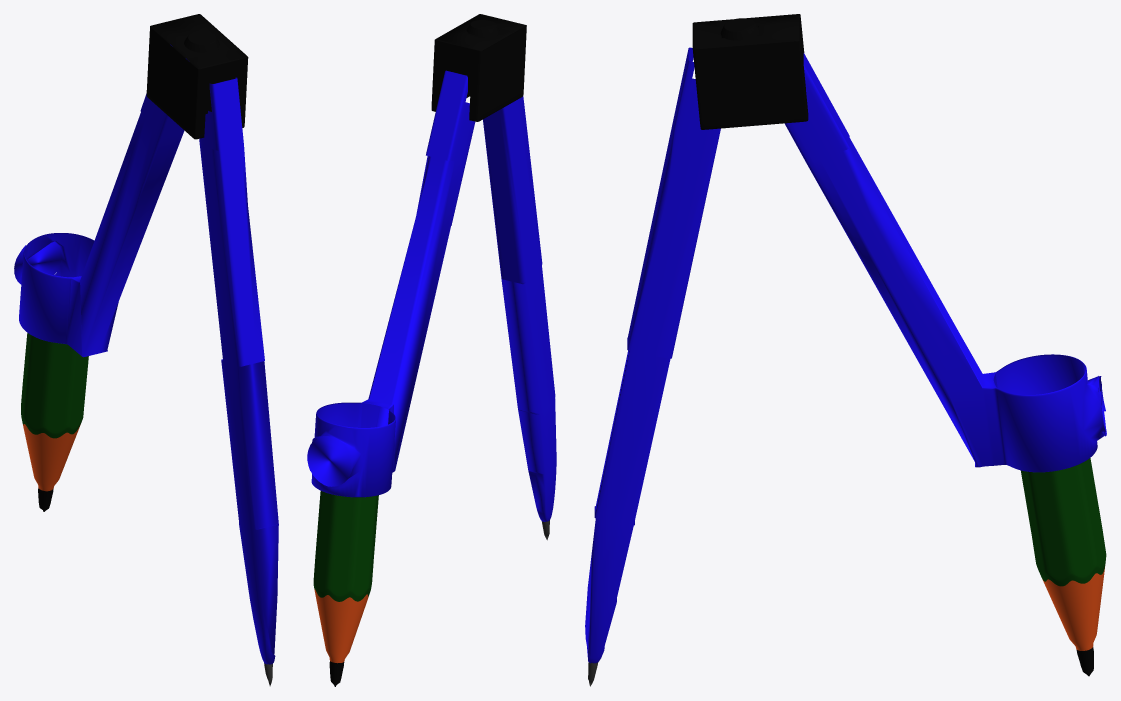
File: compass_Base.FBX
The picture shows the model from 3 angles, left to right: view 1: azimuth 30°, elevation 25°; view 2: azimuth 150°, elevation 25°; view 3: azimuth 270°, elevation 25°; orthographic projection. The views are drawn at different scales.
Visible parts, largest first — view 1: 16739_compass_for_drawing_circles_v1; view 2: 16739_compass_for_drawing_circles_v1; view 3: 16739_compass_for_drawing_circles_v1.
Boxes of the visible parts, x1,y1,x2,y2 form: 16739_compass_for_drawing_circles_v1: [14, 14, 278, 686]; 16739_compass_for_drawing_circles_v1: [307, 14, 556, 686]; 16739_compass_for_drawing_circles_v1: [585, 14, 1106, 686].
Bounding box in the file's own units: 3.5 × 27.16 × 19.36.
